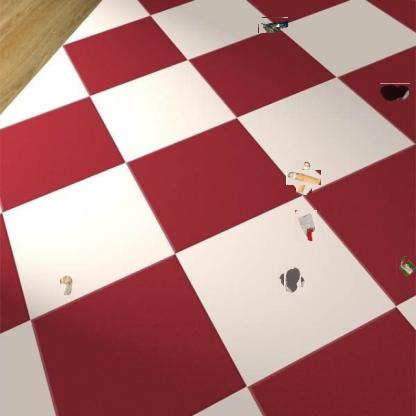dirty: (295, 210, 317, 242), (291, 165, 317, 190), (258, 17, 288, 33), (396, 256, 416, 276), (60, 274, 74, 295)
liquid: (380, 83, 410, 102), (281, 269, 303, 291)
